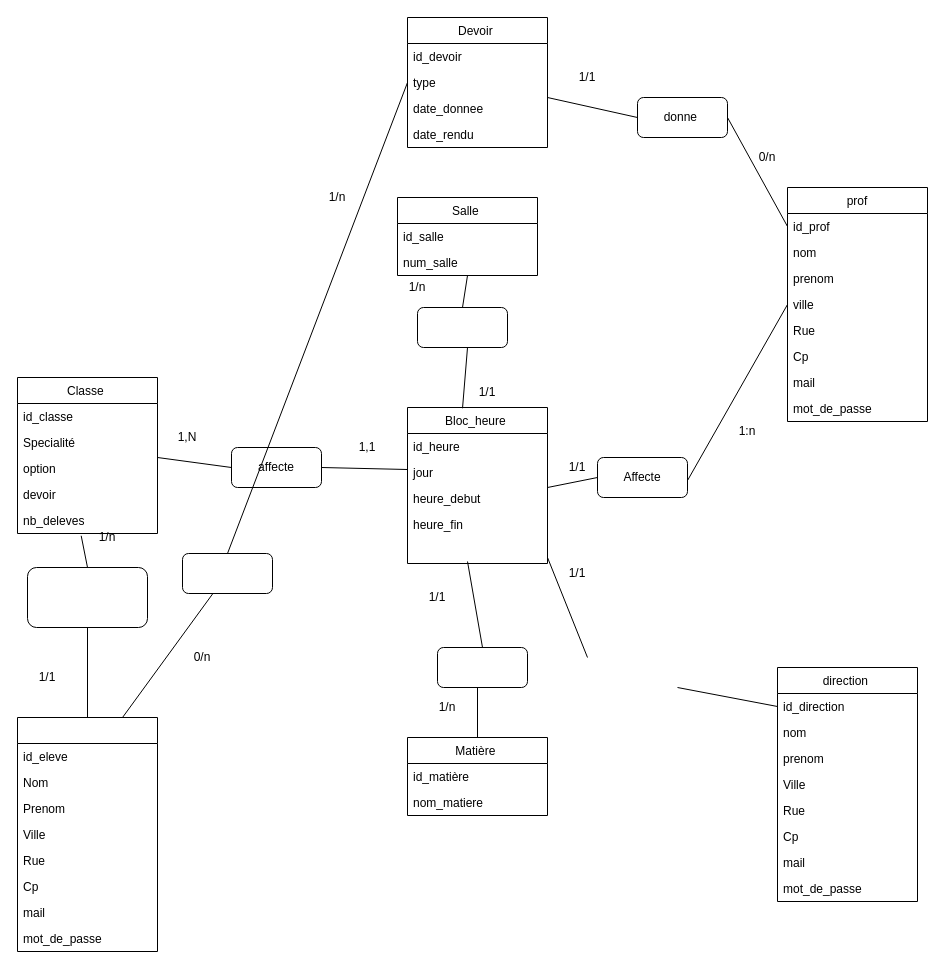
Image size: 945x972. Some labels were removed from this diagram. Each missing label, with the box of its shape:
Concerne: (436, 646, 528, 688)
Elève: (16, 716, 158, 952)
est affecter: (416, 306, 508, 348)
Fait partie: (26, 566, 148, 628)
recois: (182, 552, 272, 594)
